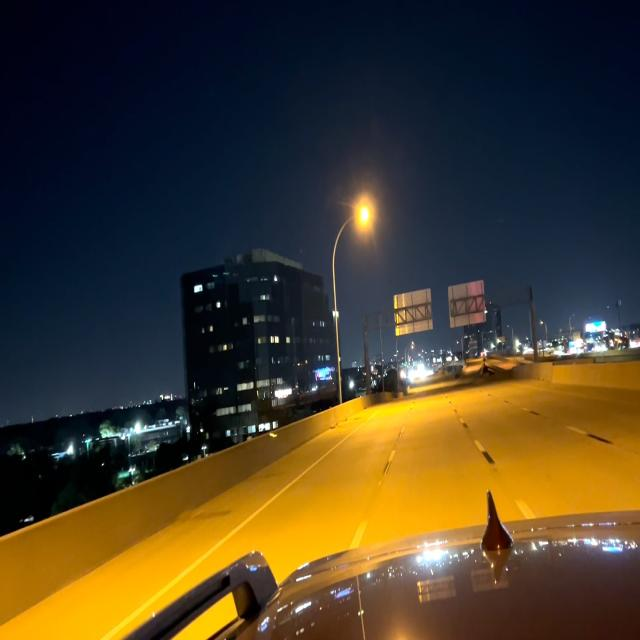back-of-sign: (448, 278, 487, 331), (394, 287, 433, 337)
